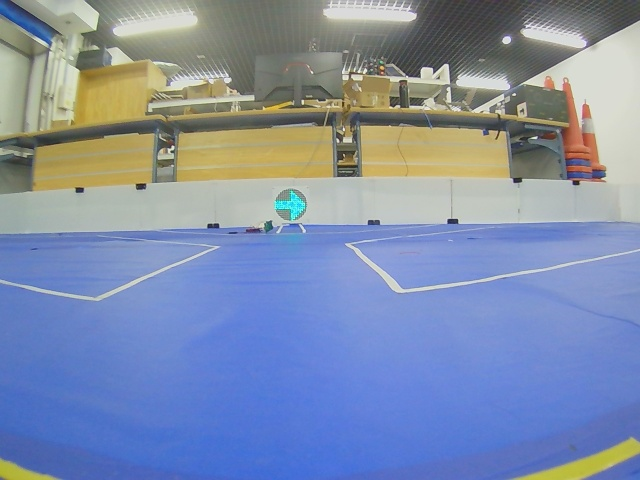right_green: (274, 188, 307, 222)
